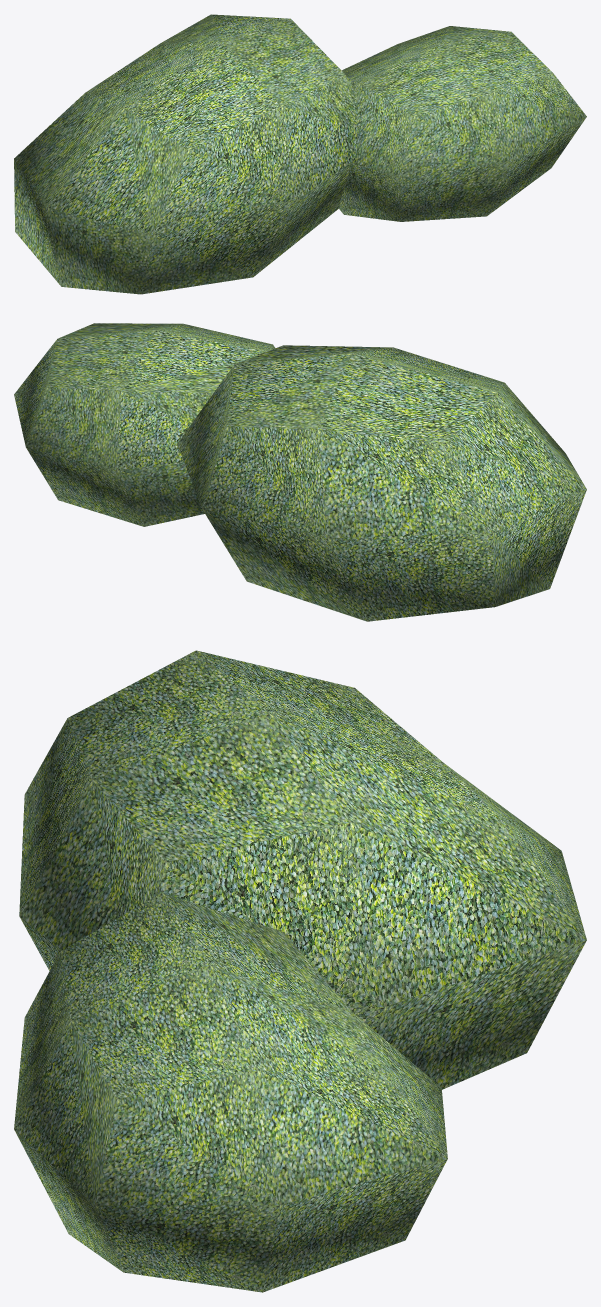
The model's file is bush(raw).fbx.
3 views of the same model, one above another, from view 1: azimuth 30°, elevation 25°; view 2: azimuth 150°, elevation 25°; view 3: azimuth 270°, elevation 25° (orthographic). The views are drawn at different scales.
Visible parts, largest first — view 1: Cube.003; view 2: Cube.003; view 3: Cube.003.
Part boxes in pixels (x1,y1,x2,y2): Cube.003: (14, 14, 586, 294); Cube.003: (14, 323, 586, 621); Cube.003: (14, 650, 586, 1292).
Bounding box in the file's own units: 263 × 113 × 139.
1 material, 1 textured.
